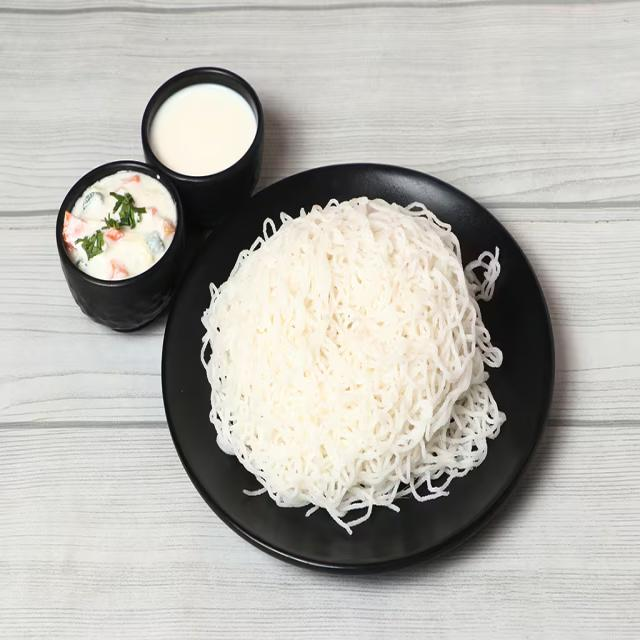CURRY: (63, 170, 177, 280)
IDIYAPPAM: (197, 196, 507, 536)
SWEET: (153, 82, 258, 178)
